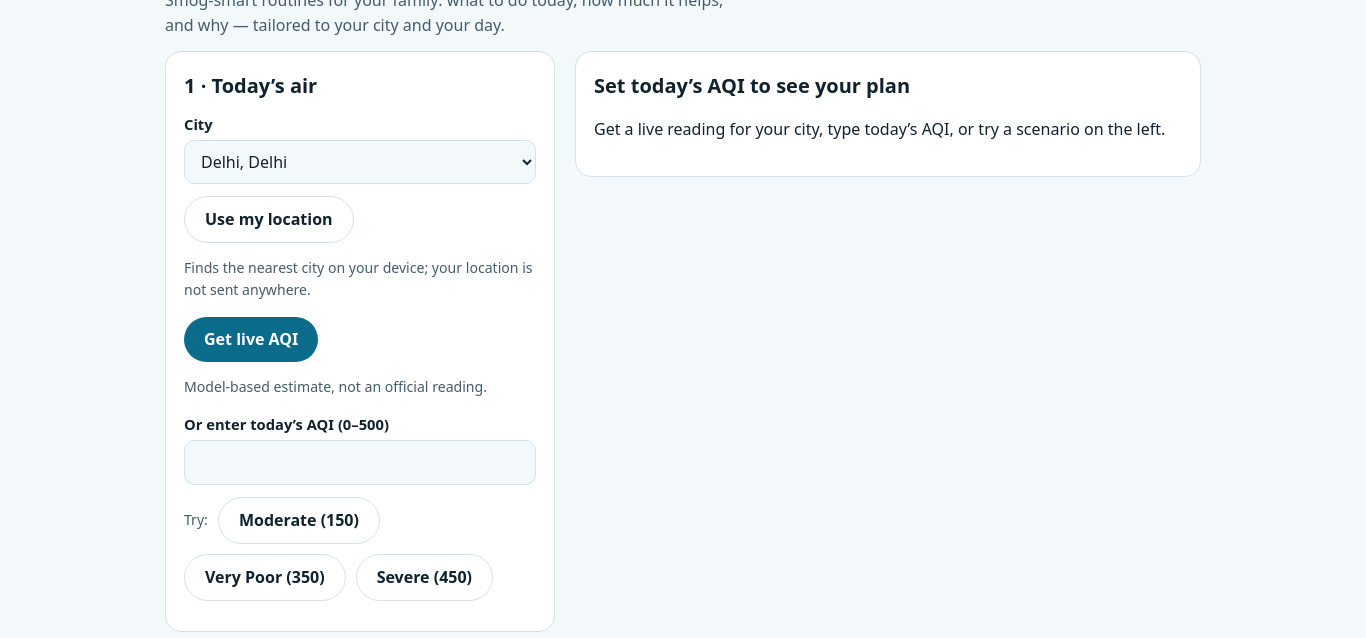
a dynamic assistant › changes recommendations with the household’s choices
The width and height of the screenshot is (1366, 638).
Click the button "Very Poor (350)".
click(265, 577)  # box [184,554,346,600]
(page scrolled)
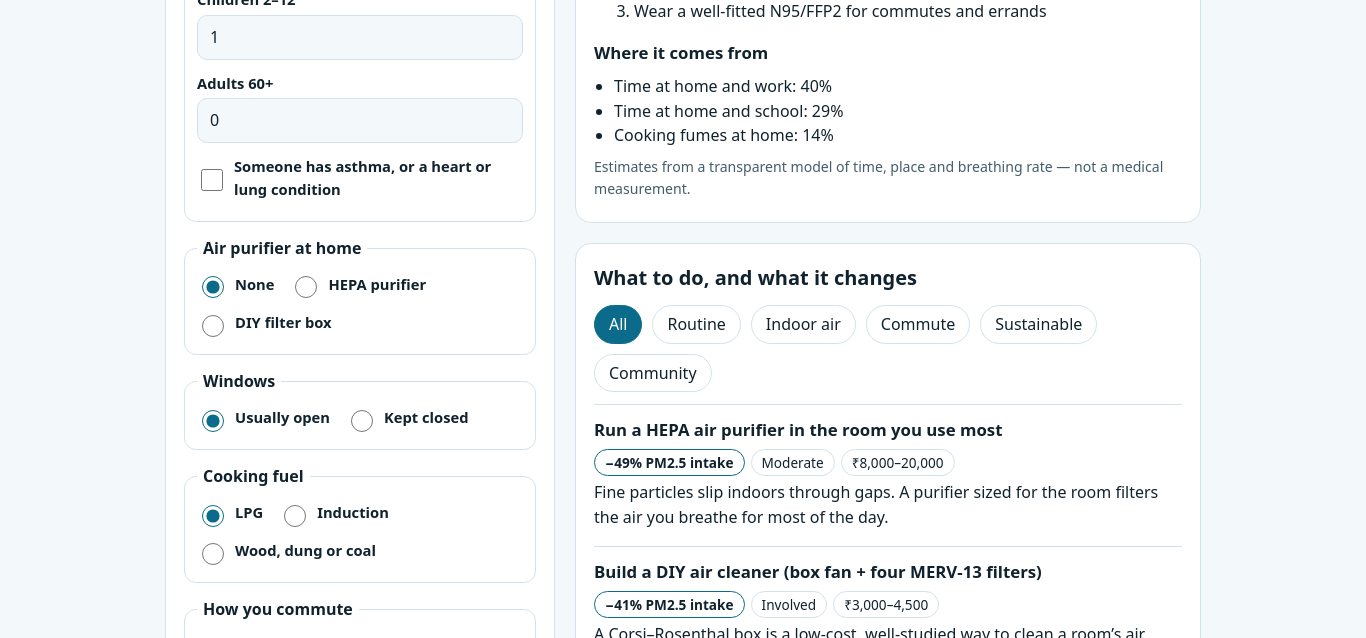
Check: the heading "Run a HEPA air purifier in the room you use most" is shown, box [594,418,1002,441]
Click the radio button labelled "HEPA purifier".
click(306, 288)  # box [296,276,318,298]
(page scrolled)
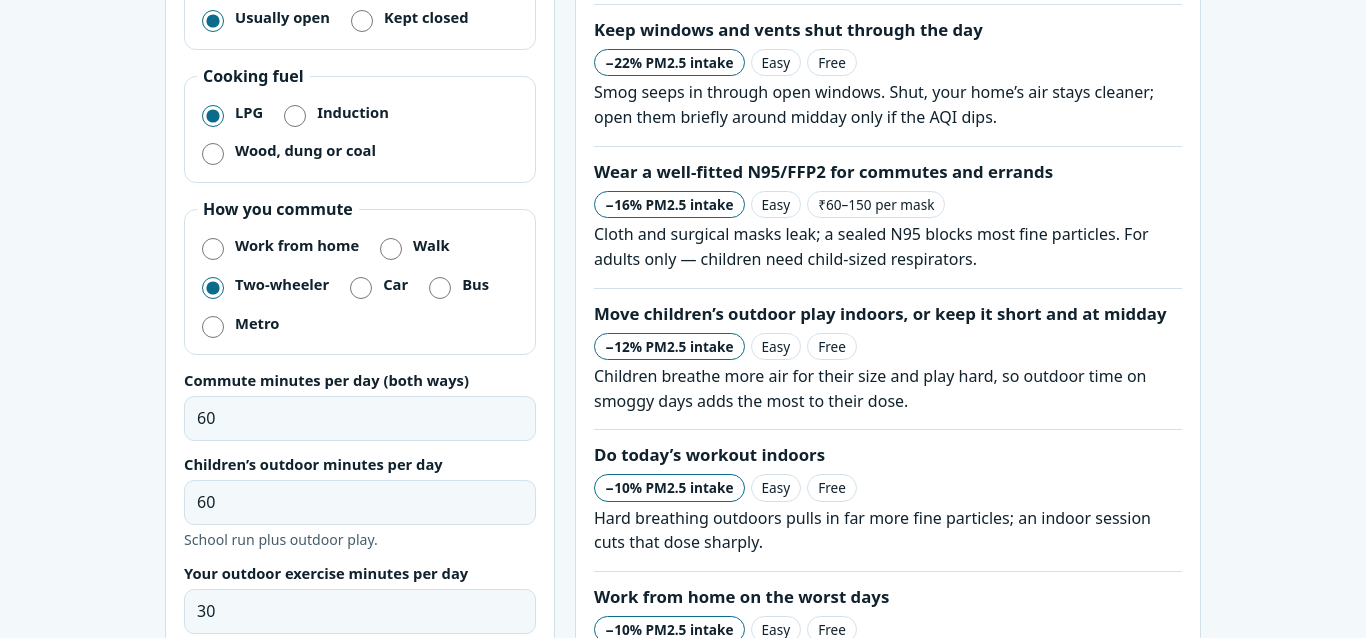
Click the radio button labelled "Car".
click(361, 288)  # box [350,277,372,299]
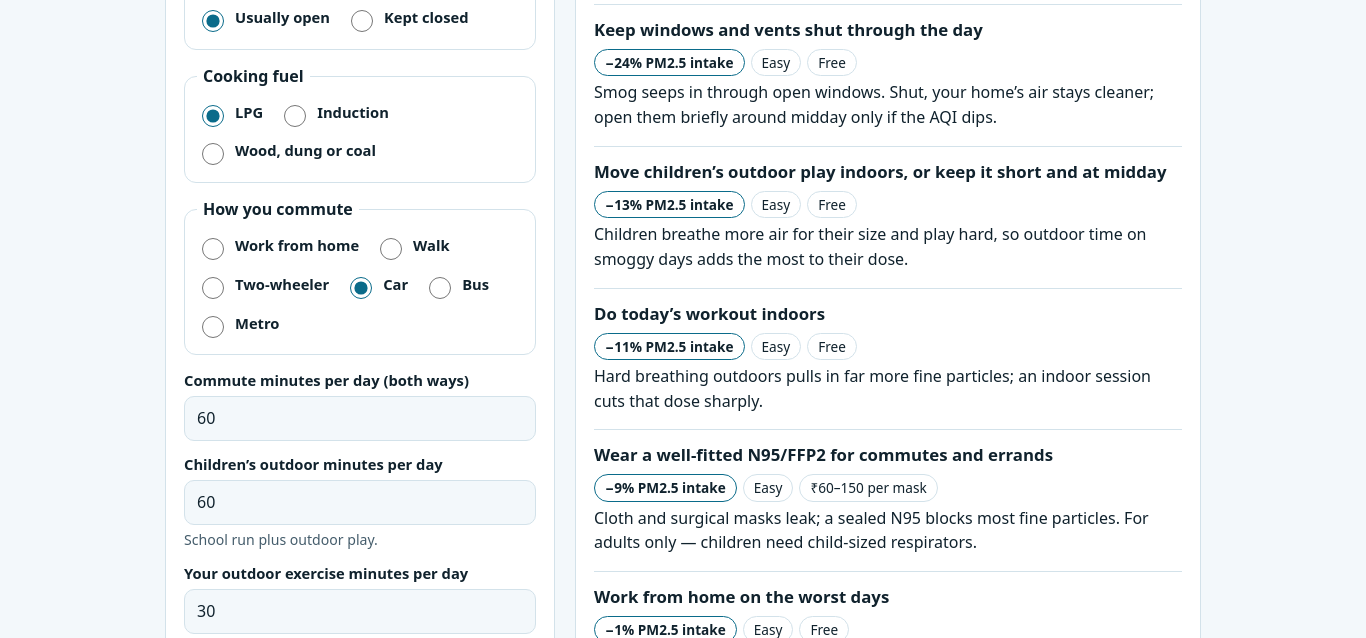
Click the radio button labelled "Wood, dung or coal".
click(213, 154)  # box [202,143,224,165]
(page scrolled)
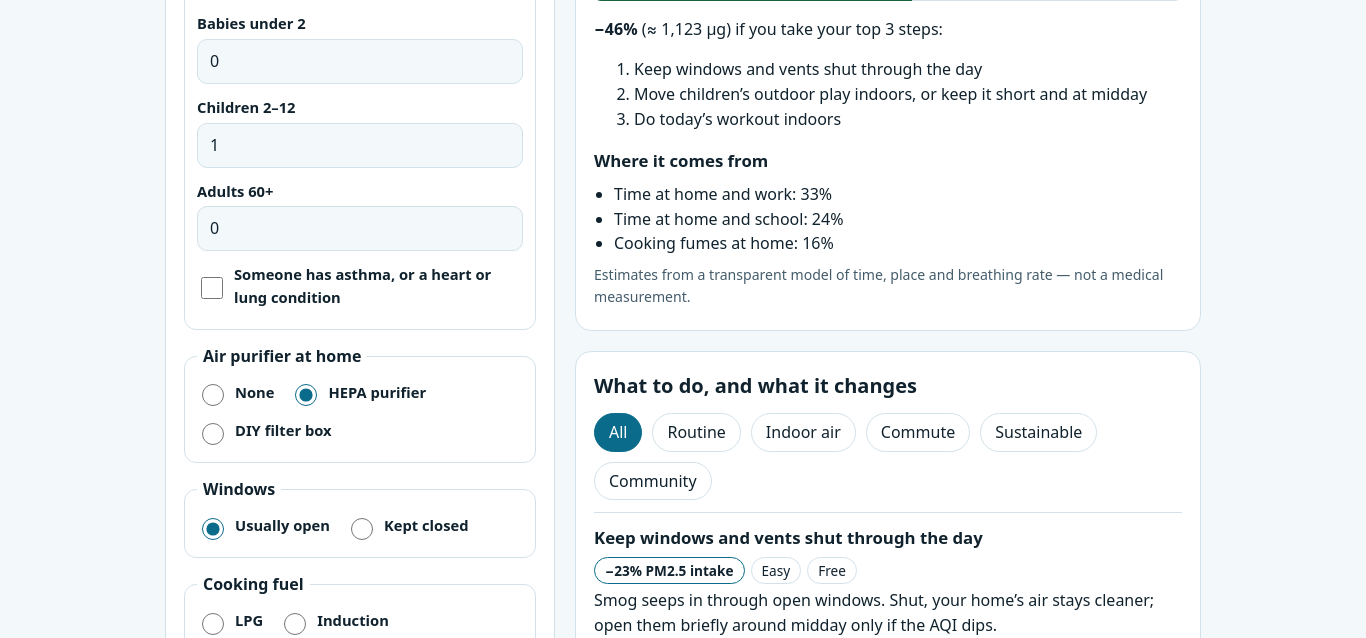
Click the checkbox labelled "Someone has asthma, or a heart or lung condition".
click(212, 288)  # box [201,277,223,299]
(page scrolled)
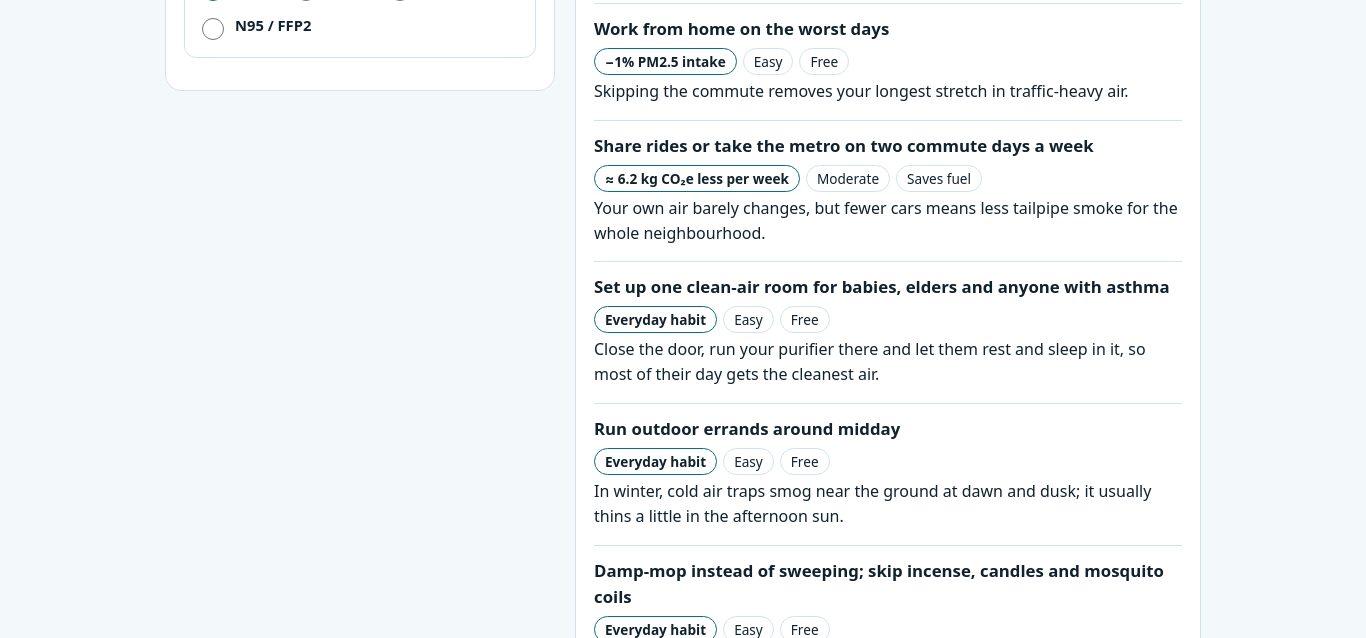
Check: the heading "Set up one clean-air room" is shown, box [594,275,1170,298]
